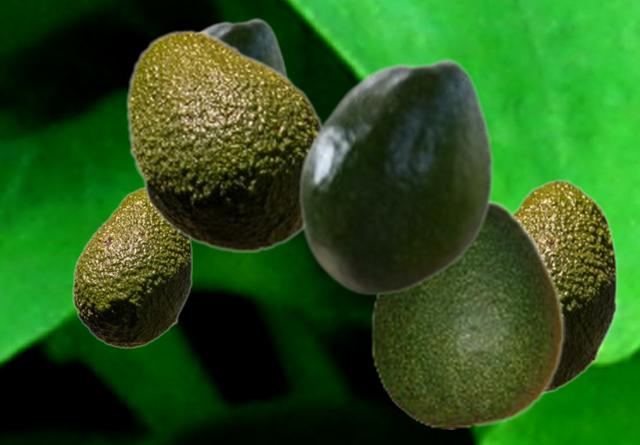avocado: (297, 57, 493, 295), (370, 199, 564, 428), (125, 29, 322, 253), (514, 179, 616, 395), (72, 187, 191, 348), (198, 17, 288, 75)
